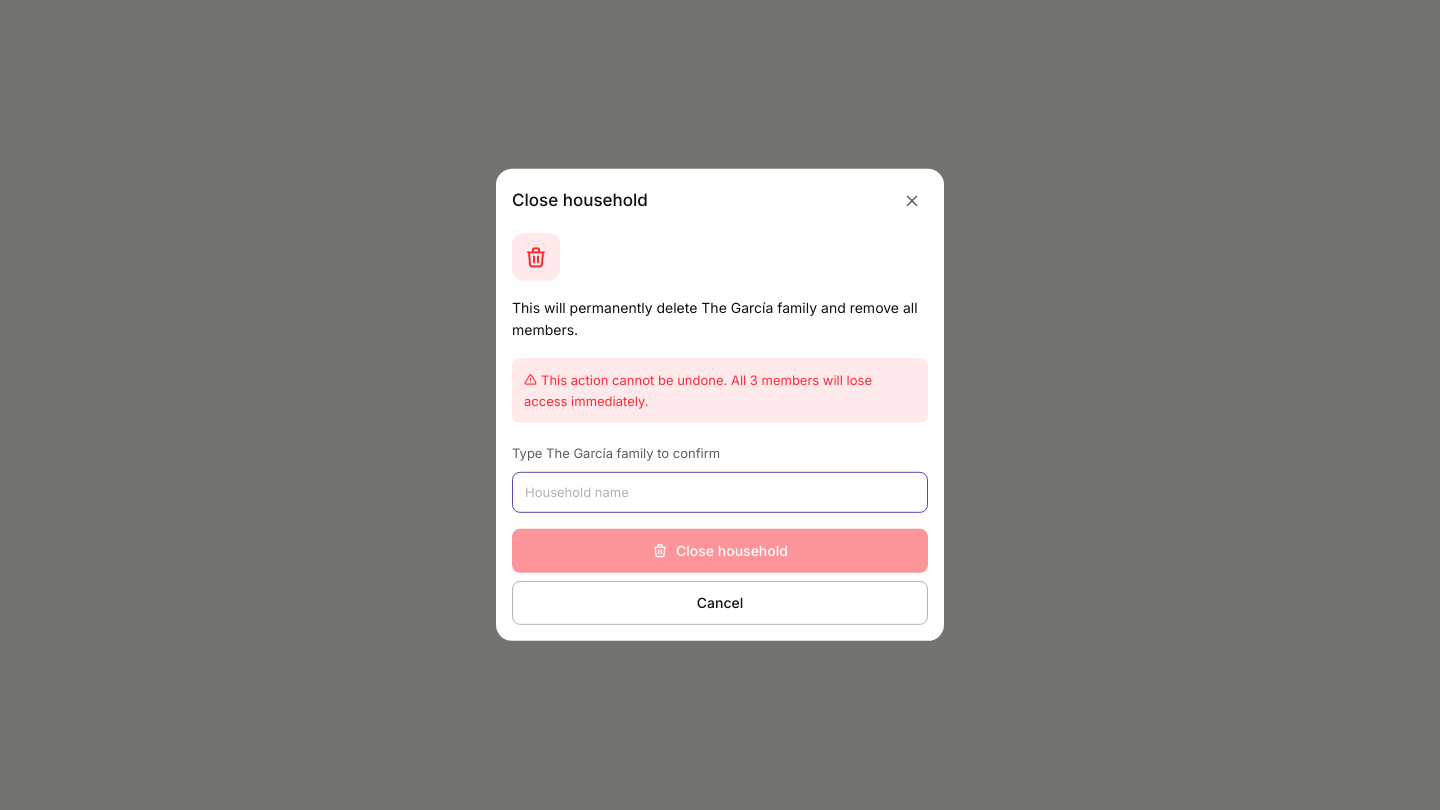
Test: CloseHouseholdSheet › enables confirm button when name matches exactly
Type "The García family" into the field with placeholder "Household name" at (720, 492), box 512,472 -> 928,513
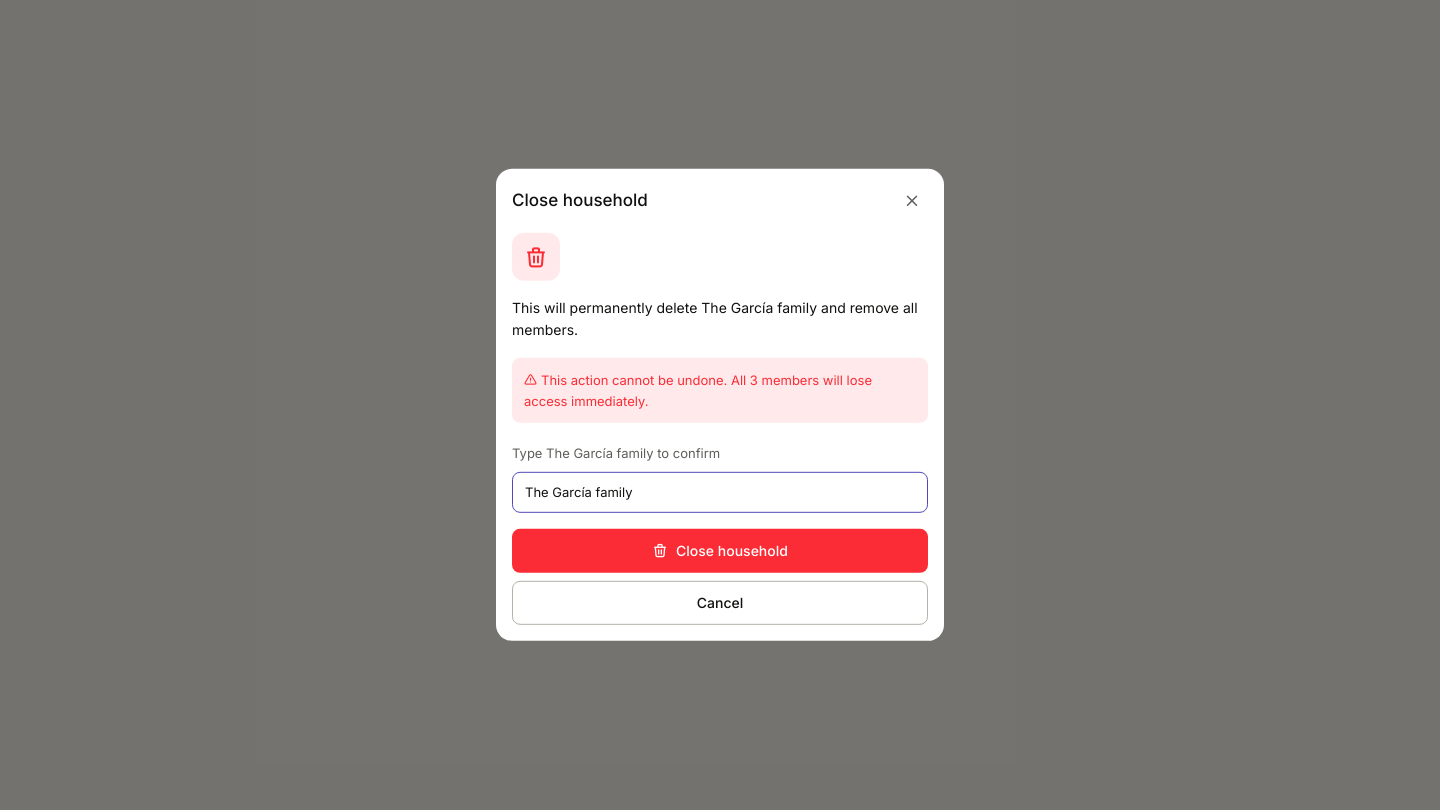
expect the button "Close household" is enabled: met, box 512,529 -> 928,573
